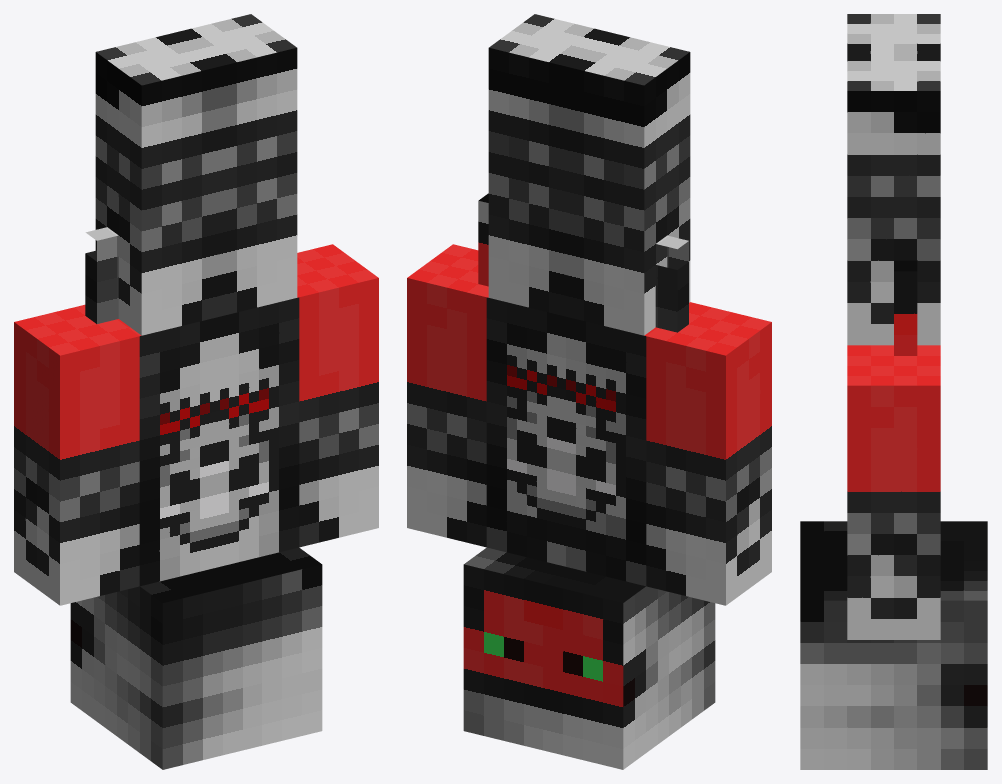
The model's file is vulcanism-master.gltf.
The picture shows the model from 3 angles, left to right: view 1: azimuth 30°, elevation 25°; view 2: azimuth 150°, elevation 25°; view 3: azimuth 270°, elevation 25°; orthographic projection.
Parts seen in each view (by area): view 1: bipedHead, bipedBody, bipedRightArm, bipedRightLeg, bipedLeftLeg, bipedLeftArm, bipedCloak; view 2: bipedHead, bipedBody, bipedRightArm, bipedRightLeg, bipedLeftLeg, bipedLeftArm, bipedCloak; view 3: bipedHead, bipedLeftArm, bipedLeftLeg, bipedRightLeg, bipedCloak.
Boxes of the visible parts, <box> form: bipedHead: <box>70,547,322,769</box>; bipedBody: <box>117,296,299,586</box>; bipedRightArm: <box>14,304,139,605</box>; bipedRightLeg: <box>95,32,221,335</box>; bipedLeftLeg: <box>172,14,297,316</box>; bipedLeftArm: <box>297,244,378,547</box>; bipedCloak: <box>85,227,118,323</box>; bipedHead: <box>463,547,715,769</box>; bipedBody: <box>486,296,691,586</box>; bipedRightArm: <box>646,302,771,605</box>; bipedRightLeg: <box>564,32,690,335</box>; bipedLeftLeg: <box>488,14,613,316</box>; bipedLeftArm: <box>407,244,488,547</box>; bipedCloak: <box>478,193,688,332</box>; bipedHead: <box>800,521,987,769</box>; bipedLeftArm: <box>847,346,940,639</box>; bipedLeftLeg: <box>847,51,940,345</box>; bipedRightLeg: <box>847,14,940,53</box>; bipedCloak: <box>894,260,917,355</box>.
Bounding box in the file's own units: 1 × 2 × 0.5.
Materials: 1 (1 with a texture image).
